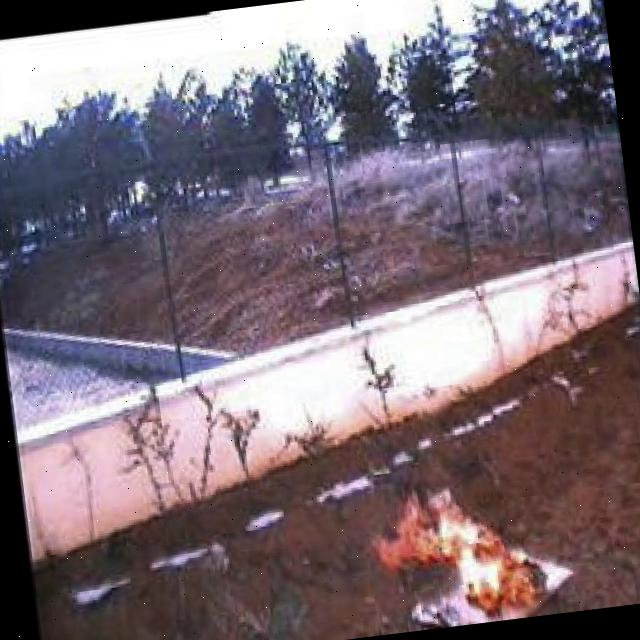fire: (364, 474, 550, 635)
